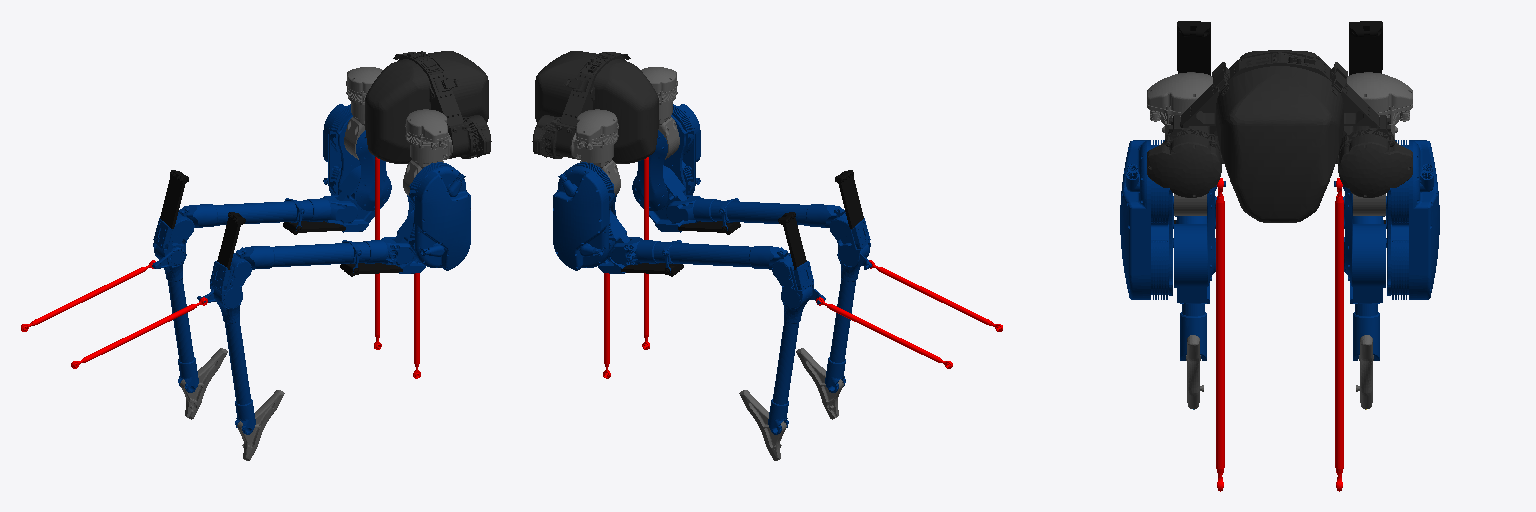
--- Render facts (derived) ---
Views: 3 orthographic renders of the robot side by side, from view 1: azimuth 30°, elevation 25°; view 2: azimuth 150°, elevation 25°; view 3: azimuth 270°, elevation 25°.
Robot: cassie — 37 links, 36 joints (34 revolute, 2 fixed); root link pelvis; default pose: all joints at 0 but 6 set to mid-range because 0 is outside their limits (knee_left = -1.75, knee_right = -1.75, toe_crank_left = -1.48, toe_crank_right = -1.48, ankle_joint_left = 1.9, ankle_joint_right = 1.9).
Links seen in each view (by area): view 1: pelvis, thigh_right, shin_right, shin_left, tarsus_right, thigh_left, tarsus_left, yaw_right, yaw_left, toe_left, toe_right, knee_left (+10 smaller); view 2: pelvis, thigh_left, shin_left, shin_right, tarsus_left, thigh_right, tarsus_right, yaw_left, yaw_right, toe_right, toe_left, knee_right (+10 smaller); view 3: pelvis, thigh_left, thigh_right, achilles_rod_left, achilles_rod_right, knee_right, knee_left, yaw_left, yaw_right, heel_spring_right, heel_spring_left, tarsus_left (+5 smaller).
Boxes of the visible links, x1,y1,x2,y2 form: pelvis: (365, 51, 491, 163); thigh_right: (407, 162, 470, 270); shin_right: (231, 237, 413, 272); shin_left: (177, 195, 357, 230); tarsus_right: (210, 253, 255, 434); thigh_left: (323, 104, 390, 210); tarsus_left: (153, 212, 198, 392); yaw_right: (405, 109, 452, 162); yaw_left: (346, 67, 382, 119); toe_left: (180, 348, 227, 419); toe_right: (237, 390, 284, 460); knee_left: (337, 165, 391, 232); pelvis: (532, 51, 658, 163); thigh_left: (553, 162, 616, 270); shin_left: (610, 237, 792, 272); shin_right: (666, 195, 846, 230); tarsus_left: (768, 253, 813, 434); thigh_right: (633, 104, 700, 210); tarsus_right: (825, 212, 870, 392); yaw_left: (571, 109, 618, 162); yaw_right: (641, 67, 677, 119); toe_right: (796, 348, 843, 419); toe_left: (739, 390, 786, 460); knee_right: (632, 165, 686, 232); pelvis: (1147, 50, 1412, 222); thigh_left: (1334, 140, 1439, 299); thigh_right: (1120, 140, 1225, 299); achilles_rod_left: (1335, 178, 1343, 491); achilles_rod_right: (1216, 178, 1224, 491); knee_right: (1174, 224, 1209, 303); knee_left: (1350, 224, 1385, 303); yaw_left: (1347, 72, 1412, 143); yaw_right: (1147, 72, 1212, 143); heel_spring_right: (1177, 21, 1210, 75); heel_spring_left: (1349, 21, 1382, 75); tarsus_left: (1353, 303, 1379, 360).
Size in the robot's own frame: 1.14 by 0.4825 by 0.8448 metres.
25 mesh visuals loaded from 20 distinct referenced files (20 OBJ).

The robot description file, URDF, robot "cassie":
<robot name="cassie">

    <link name="pelvis">
        <inertial>
            <origin
                    xyz=".05066 0.000346 .02841"
                    rpy="0 0 0" />
            <mass value="10.33" />
            <inertia
                    ixx=".094158"
                    ixy=".0001685"
                    ixz=".015026"
                    iyy=".084066"
                    iyz=".0005156"
                    izz=".112770" />
        </inertial>
        <visual>
            <origin
                    xyz="0 0 0"
                    rpy="0 0 0" />
            <geometry>
                <mesh filename="meshes/pelvis.obj" />
            </geometry>
            <material name="">
                <color
                        rgba="0.2 0.2 0.2 1.0" />
            </material>
        </visual>
    </link>

    <link name="yaw_left">
        <inertial>
            <origin
                    xyz=".0257 0.0001 .0179"
                    rpy="0 -1.570796 0" />
            <mass value="1.82" />
            <inertia
                    ixx=".002722"
                    ixy=".000000703"
                    ixz=".00000153"
                    iyy=".005586"
                    iyz=".00000261"
                    izz=".004638" />
        </inertial>
        <visual>
            <origin
                    xyz="0 0 -0.07"
                    rpy="0 -1.570796 0" />
            <geometry>
                <mesh filename="meshes/agility/left_yaw.obj" />
            </geometry>
            <material name="">
                <color rgba="0.4 0.4 0.4 1" />
            </material>
        </visual>
    </link>

    <link name="yaw_right">
        <inertial>
            <origin
                    xyz=".0257 -0.0001 .0179"
                    rpy="0 -1.570796 0" />
            <mass value="1.82" />
            <inertia
                    ixx=".002722"
                    ixy="-.000000703"
                    ixz=".00000153"
                    iyy=".005586"
                    iyz="-.00000261"
                    izz=".004638" />
        </inertial>
        <visual>
            <origin
                    xyz="0 0 -0.07"
                    rpy="0 -1.570796 0" />
            <geometry>
                <mesh filename="meshes/agility/right_yaw.obj" />
            </geometry>
            <material name="">
                <color rgba="0.4 0.4 0.4 1" />
            </material>
        </visual>
    </link>

    <link name="hip_left">
        <inertial>
            <origin
                    xyz="-.05572 0 0.00001"
                    rpy="-1.570796 1.570796 0" />
            <mass value="1.171" />
            <inertia
                    ixx=".000842"
                    ixy=".0000002462"
                    ixz="-.0000006251"
                    iyy=".006076"
                    iyz="-.00000004"
                    izz=".006436" />
        </inertial>
        <visual>
            <origin
                    xyz="0 0 -0.09"
                    rpy="-1.570796 1.570796 0" />
            <geometry>
                <mesh filename="meshes/agility/left_hip.obj" />
            </geometry>
            <material name="">
                <color rgba="0.4 0.4 0.4 1" />
            </material>
        </visual>
    </link>

    <link name="hip_right">
        <inertial>
            <origin
                    xyz="-.05572 0 -0.00001"
                    rpy="-1.570796 1.570796 0" />
            <mass value="1.171" />
            <inertia
                    ixx=".000842"
                    ixy=".0000002462"
                    ixz=".0000006251"
                    iyy=".006076"
                    iyz=".00000004"
                    izz=".006436" />
        </inertial>
        <visual>
            <origin
                    xyz="0 0 -0.09"
                    rpy="-1.570796 1.570796 0" />
            <geometry>
                <mesh filename="meshes/agility/right_hip.obj" />
            </geometry>
            <material name="">
                <color rgba="0.4 0.4 0.4 1" />
            </material>
        </visual>
    </link>

    <link name="thigh_left">
        <inertial>
            <origin
                    xyz="0.05946 0.00005 -.03581"
                    rpy="0 0 0" />
            <mass value="5.52" />
            <inertia
                    ixx=".017969"
                    ixy=".0002836"
                    ixz="-.011685"
                    iyy=".056284"
                    iyz="-.00001926"
                    izz=".049756" />
        </inertial>
        <visual>
            <origin
                    xyz="0 0 0"
                    rpy="0 0 0" />
            <geometry>
                <mesh filename="meshes/agility/left_thigh.obj" />
            </geometry>
            <material name="">
                <color rgba="0.024 0.24 0.5 1.0" />
            </material>
        </visual>
    </link>

    <link name="thigh_right">
        <inertial>
            <origin
                    xyz="0.05946 0.00005 .03581"
                    rpy="0 0 0" />
            <mass value="5.52" />
            <inertia
                    ixx=".017969"
                    ixy=".0002836"
                    ixz=".011685"
                    iyy=".056284"
                    iyz=".00001926"
                    izz=".049756" />
        </inertial>
        <visual>
            <origin
                    xyz="0 0 0"
                    rpy="0 0 0" />
            <geometry>
                <mesh filename="meshes/agility/right_thigh.obj" />
            </geometry>
            <material name="">
                <color rgba="0.024 0.24 0.5 1.0" />
            </material>
        </visual>
    </link>

    <link name="achilles_rod_left">
        <inertial>
            <origin
                    xyz="0.24719 0 0"
                    rpy="0 0 0" />
            <mass value="0.1567" />
            <inertia
                    ixx=".000004"
                    ixy="0"
                    ixz=""
                    iyy=".014061"
                    iyz="0"
                    izz=".014061" />
        </inertial>
        <visual>
            <origin
                    xyz="0 0 0"
                    rpy="0 0 0" />
            <geometry>
                <mesh filename="meshes/achilles-rod.obj" />
            </geometry>
            <material name="">
                <color rgba="1 0 0 1.0" />
            </material>
        </visual>
    </link>

    <link name="achilles_hip_pitch_left">
        <inertial>
            <origin rpy="0 0 0" xyz="0 0 0"/>
            <mass value="0"/>
            <inertia ixx="0" ixy="0" ixz="0" iyy="0" iyz="0" izz="0"/>
        </inertial>
    </link>

    <link name="achilles_heel_roll_left">
        <inertial>
            <origin rpy="0 0 0" xyz="0 0 0"/>
            <mass value="0"/>
            <inertia ixx="0" ixy="0" ixz="0" iyy="0" iyz="0" izz="0"/>
        </inertial>
    </link>

    <link name="achilles_heel_pitch_left">
        <inertial>
            <origin rpy="0 0 0" xyz="0 0 0"/>
            <mass value="0"/>
            <inertia ixx="0" ixy="0" ixz="0" iyy="0" iyz="0" izz="0"/>
        </inertial>
    </link>

    <link name="achilles_rod_right">
        <inertial>
            <origin
                    xyz="0.24719 0 0"
                    rpy="0 0 0" />
            <mass value="0.1567" />
            <inertia
                    ixx=".000004"
                    ixy="0"
                    ixz=""
                    iyy=".014061"
                    iyz="0"
                    izz=".014061" />
        </inertial>
        <visual>
            <origin
                    xyz="0 0 0"
                    rpy="0 0 0" />
            <geometry>
                <mesh filename="meshes/achilles-rod.obj" />
            </geometry>
            <material name="">
                <color rgba="1 0 0 1.0" />
            </material>
        </visual>
    </link>

    <link name="achilles_hip_pitch_right">
        <inertial>
            <origin rpy="0 0 0" xyz="0 0 0"/>
            <mass value="0"/>
            <inertia ixx="0" ixy="0" ixz="0" iyy="0" iyz="0" izz="0"/>
        </inertial>
    </link>

    <link name="achilles_heel_roll_right">
        <inertial>
            <origin rpy="0 0 0" xyz="0 0 0"/>
            <mass value="0"/>
            <inertia ixx="0" ixy="0" ixz="0" iyy="0" iyz="0" izz="0"/>
        </inertial>
    </link>

    <link name="achilles_heel_pitch_right">
        <inertial>
            <origin rpy="0 0 0" xyz="0 0 0"/>
            <mass value="0"/>
            <inertia ixx="0" ixy="0" ixz="0" iyy="0" iyz="0" izz="0"/>
        </inertial>
    </link>

    <link name="knee_left">
        <inertial>
            <origin
                    xyz="0.023 0.03207 -0.002181"
                    rpy="0 0 0" />
            <mass value="0.7578" />
            <inertia
                    ixx=".002159"
                    ixy=".0009564"
                    ixz=".000002837"
                    iyy=".001438"
                    iyz=".000000739"
                    izz=".003344" />
        </inertial>
        <visual>
            <origin
                    xyz="0 0 0"
                    rpy="0 0 0" />
            <geometry>
                <mesh filename="meshes/knee-output.obj" />
            </geometry>
            <material name="">
                <color rgba="0.024 0.24 0.5 1.0" />
            </material>
        </visual>
    </link>

    <link name="knee_right">
        <inertial>
            <origin
                    xyz="0.023 0.03207 0.002181"
                    rpy="0 0 0" />
            <mass value="0.7578" />
            <inertia
                    ixx=".002159"
                    ixy=".0009564"
                    ixz=".000002837"
                    iyy=".001438"
                    iyz="-.000000739"
                    izz=".003344" />
        </inertial>
        <visual>
            <origin
                    xyz="0 0 0"
                    rpy="0 0 0" />
            <geometry>
                <mesh filename="meshes/knee-output-r.obj" />
            </geometry>
            <material name="">
                <color rgba="0.024 0.24 0.5 1.0" />
            </material>
        </visual>
    </link>

    <link name="shin_left">
        <inertial>
            <origin
                    xyz=".18338 0.001169 0.0002123"
                    rpy="0 0 0" />
            <mass value="0.5771" />
            <inertia
                    ixx=".0003602"
                    ixy=".0003335"
                    ixz="-.0000001941"
                    iyy=".034132"
                    iyz=".0000002652"
                    izz=".034111" />
        </inertial>
        <visual>
            <origin
                    xyz="0 0 0"
                    rpy="0 0 0" />
            <geometry>
                <mesh filename="meshes/agility/left_shin.obj" />
            </geometry>
            <material name="">
                <color rgba="0.024 0.24 0.5 1.0" />
            </material>
        </visual>
    </link>

    <link name="shin_right">
        <inertial>
            <origin
                    xyz=".18338 0.001169 -0.0002123"
                    rpy="0 0 0" />
            <mass value="0.5771" />
            <inertia
                    ixx=".0003602"
                    ixy=".000334"
                    ixz=".0000001941"
                    iyy=".034132"
                    iyz="-.0000002652"
                    izz=".034111" />
        </inertial>
        <visual>
            <origin
                    xyz="0 0 0"
                    rpy="0 0 0" />
            <geometry>
                <mesh filename="meshes/agility/right_shin.obj" />
            </geometry>
            <material name="">
                <color rgba="0.024 0.24 0.5 1.0" />
            </material>
        </visual>
    </link>

    <link name="knee_spring_left">
        <inertial>
            <origin
                    xyz=".08364 0.003427 0.0"
                    rpy="0 0 0" />
            <mass value="0.1864" />
            <inertia
                    ixx=".0000543"
                    ixy=".00004601"
                    ixz="0.0"
                    iyy=".001712"
                    iyz="0.0"
                    izz=".001669" />
        </inertial>
        <visual>
            <origin
                    xyz="0 0 0"
                    rpy="0 0 0" />
            <geometry>
                <mesh filename="meshes/knee-spring.obj" />
            </geometry>
            <material name="">
                <color rgba="0.1 0.1 0.1 1" />
            </material>
        </visual>
    </link>

    <link name="knee_spring_right">
        <inertial>
            <origin
                    xyz=".08364 0.003427 0.0"
                    rpy="0 0 0" />
            <mass value="0.1864" />
            <inertia
                    ixx=".0000543"
                    ixy=".00004601"
                    ixz="0.0"
                    iyy=".001712"
                    iyz="0.0"
                    izz=".001669" />
        </inertial>
        <visual>
            <origin
                    xyz="0 0 0"
                    rpy="0 0 0" />
            <geometry>
                <mesh filename="meshes/knee-spring.obj" />
            </geometry>
            <material name="">
                <color rgba="0.1 0.1 0.1 1" />
            </material>
        </visual>
    </link>

    <link name="tarsus_left">
        <inertial>
            <origin
                    xyz=".11046 -.03058 -.00131"
                    rpy="0 0 0" />
            <mass value="0.782" />
            <inertia
                    ixx=".001125"
                    ixy="-.002878"
                    ixz="-.00006329"
                    iyy=".023138"
                    iyz=".00003615"
                    izz=".023947" />
        </inertial>
        <visual>
            <origin
                    xyz="0 0 0"
                    rpy="0 0 0" />
            <geometry>
                <mesh filename="meshes/tarsus.obj" />
            </geometry>
            <material name="">
                <color rgba="0.024 0.24 0.5 1.0" />
            </material>
        </visual>
    </link>

    <link name="tarsus_right">
        <inertial>
            <origin
                    xyz=".11046 -.03058 -.00131"
                    rpy="0 0 0" />
            <mass value="0.782" />
            <inertia
                    ixx=".001125"
                    ixy="-.002878"
                    ixz=".00006329"
                    iyy=".023138"
                    iyz="-.00003615"
                    izz=".023947" />
        </inertial>
        <visual>
            <origin
                    xyz="0 0 0"
                    rpy="0 0 0" />
            <geometry>
                <mesh filename="meshes/tarsus-r.obj" />
            </geometry>
            <material name="">
                <color rgba="0.024 0.24 0.5 1.0" />
            </material>
        </visual>
    </link>

    <link name="heel_spring_left">
        <inertial>
            <origin
                    xyz="0.08097 0.00223 -0.0000385"
                    rpy="0 0 0" />
            <mass value="0.1259" />
            <inertia
                    ixx=".00003016"
                    ixy=".00001528"
                    ixz=".000000575"
                    iyy=".001049"
                    iyz="-.0000000557"
                    izz=".001028" />
        </inertial>
        <visual>
            <origin
                    xyz="0 0 0"
                    rpy="0 0 0" />
            <geometry>
                <mesh filename="meshes/heel-spring.obj" />
            </geometry>
            <material name="">
                <color rgba="0.1 0.1 0.1 1" />
            </material>
        </visual>
    </link>

    <link name="heel_spring_right">
        <inertial>
            <origin
                    xyz="0.08097 0.00223 -0.0000385"
                    rpy="0 0 0" />
            <mass value="0.1259" />
            <inertia
                    ixx=".00003016"
                    ixy=".00001528"
                    ixz=".000000575"
                    iyy=".001049"
                    iyz="-.0000000557"
                    izz=".001028" />
        </inertial>
        <visual>
            <origin
                    xyz="0 0 0"
                    rpy="0 0 0" />
            <geometry>
                <mesh filename="meshes/heel-spring.obj" />
            </geometry>
            <material name="">
                <color rgba="0.1 0.1 0.1 1" />
            </material>
        </visual>
    </link>

    <link name="foot_crank_link_left">
        <inertial>
            <origin
                    xyz="0.00481 0.00002 -0.00293"
                    rpy="0 0 0" />
            <mass value="0.129" />
            <inertia
                    ixx=".0000307"
                    ixy=".0000000019"
                    ixz=".00000262"
                    iyy=".00005705"
                    iyz=".0000000066"
                    izz=".00006643" />
        </inertial>
        <visual>
            <origin
                    xyz="0 0 0"
                    rpy="0 0 0" />
            <geometry>
                <mesh filename="meshes/agility/foot_crank.obj" />
            </geometry>
            <material name="">
                <color rgba="0.024 0.24 0.5 1.0" />
                <!-- <color rgba="1.0 0.423529411765 0.0392156862745 1.0" /> -->
            </material>
        </visual>
    </link>

    <link name="plantar_rod_left">
        <inertial>
            <origin
                    xyz="0.17792 0 0"
                    rpy="0 0 0" />
            <mass value="0.1186" />
            <inertia
                    ixx=".0000028"
                    ixy="0"
                    ixz=""
                    iyy=".005530"
                    iyz="0"
                    izz=".005530" />
        </inertial>
        <visual>
            <origin
                    xyz="0 0 0"
                    rpy="0 0 0" />
            <geometry>
                <mesh filename="meshes/plantar-rod.obj" />
            </geometry>
            <material name="">
                <color rgba="1 0 0 1.0" />
            </material>
        </visual>
    </link>

    <link name="plantar_crank_pitch_left">
        <inertial>
            <origin rpy="0 0 0" xyz="0 0 0"/>
            <mass value="0"/>
            <inertia ixx="0" ixy="0" ixz="0" iyy="0" iyz="0" izz="0"/>
        </inertial>
    </link>

    <link name="plantar_foot_roll_left">
        <inertial>
            <origin rpy="0 0 0" xyz="0 0 0"/>
            <mass value="0"/>
            <inertia ixx="0" ixy="0" ixz="0" iyy="0" iyz="0" izz="0"/>
        </inertial>
    </link>

    <link name="plantar_foot_pitch_left">
        <inertial>
            <origin rpy="0 0 0" xyz="0 0 0"/>
            <mass value="0"/>
            <inertia ixx="0" ixy="0" ixz="0" iyy="0" iyz="0" izz="0"/>
        </inertial>
    </link>

    <link name="plantar_rod_right">
        <inertial>
            <origin
                    xyz="0.17792 0 0"
                    rpy="0 0 0" />
            <mass value="0.1186" />
            <inertia
                    ixx=".0000028"
                    ixy="0"
                    ixz=""
                    iyy=".005530"
                    iyz="0"
                    izz=".005530" />
        </inertial>
        <visual>
            <origin
                    xyz="0 0 0"
                    rpy="0 0 0" />
            <geometry>
                <mesh filename="meshes/plantar-rod.obj" />
            </geometry>
            <material name="">
                <color rgba="1 0 0 1.0" />
            </material>
        </visual>
    </link>

    <link name="plantar_crank_pitch_right">
        <inertial>
            <origin rpy="0 0 0" xyz="0 0 0"/>
            <mass value="0"/>
            <inertia ixx="0" ixy="0" ixz="0" iyy="0" iyz="0" izz="0"/>
        </inertial>
    </link>

    <link name="plantar_foot_roll_right">
        <inertial>
            <origin rpy="0 0 0" xyz="0 0 0"/>
            <mass value="0"/>
            <inertia ixx="0" ixy="0" ixz="0" iyy="0" iyz="0" izz="0"/>
        </inertial>
    </link>

    <link name="plantar_foot_pitch_right">
        <inertial>
            <origin rpy="0 0 0" xyz="0 0 0"/>
            <mass value="0"/>
            <inertia ixx="0" ixy="0" ixz="0" iyy="0" iyz="0" izz="0"/>
        </inertial>
    </link>

    <link name="foot_crank_link_right">
        <inertial>
            <origin
                    xyz="0.00481 0.00002 -0.00293"
                    rpy="0 0 0" />
            <mass value="0.129" />
            <inertia
                    ixx=".0000307"
                    ixy=".0000000019"
                    ixz=".00000262"
                    iyy=".00005705"
                    iyz=".0000000066"
                    izz=".00006643" />
        </inertial>
        <visual>
            <origin
                    xyz="0 0 0"
                    rpy="0 0 0" />
            <geometry>
                <mesh filename="meshes/agility/foot_crank.obj" />
            </geometry>
            <material name="">
                <color rgba="0.024 0.24 0.5 1.0" />
                <!-- <color rgba="1.0 0.423529411765 0.0392156862745 1.0" /> -->
            </material>
        </visual>
    </link>

    <link name="toe_left">
        <inertial>
            <origin
                    xyz="0.00474 0.02748 -0.00014"
                    rpy="0 0 0" />
            <mass value="0.1498" />
            <inertia
                    ixx=".000287"
                    ixy="-.00009863"
                    ixz="-.000001456"
                    iyy=".0001713"
                    iyz=".0000001716"
                    izz=".0004491" />
        </inertial>
        <visual>
            <origin
                    xyz="0 0 0"
                    rpy="0 0 0" />
            <geometry>
                <mesh filename="meshes/agility/left_foot.obj" />
                <!-- <mesh filename="meshes/toe.obj" /> -->
            </geometry>
            <material name="">
                <color rgba="0.4 0.4 0.4 1" />
            </material>
        </visual>

        <visual>
            <geometry>
                <sphere radius="0.001"/>
            </geometry>
            <origin xyz="-0.0457 .112 0" rpy="0 0 0"/>
        </visual>
        <collision>
            <geometry>
                <sphere radius="0.0"/>
            </geometry>
            <origin xyz="-0.0457 .112 0" rpy="0 0 0"/>
        </collision>
        <visual>
            <geometry>
                <sphere radius="0.001"/>
            </geometry>
            <origin xyz="0.088 0 0" rpy="0 0 0"/>
        </visual>
        <collision>
            <geometry>
                <sphere radius="0.0"/>
            </geometry>
            <origin xyz="0.088 0 0" rpy="0 0 0"/>
        </collision>
    </link>

    <link name="toe_right">
        <inertial>
            <origin
                    xyz="0.00474 0.02748 0.00014"
                    rpy="0 0 0" />
            <mass value="0.1498" />
            <inertia
                    ixx=".000287"
                    ixy="-.00009863"
                    ixz=".000001456"
                    iyy=".0001713"
                    iyz="-.0000001716"
                    izz=".0004491" />
        </inertial>
        <visual>
            <origin
                    xyz="0 0 0"
                    rpy="0 0 0" />
            <geometry>
                <mesh filename="meshes/agility/right_foot.obj" />
                <!-- <mesh filename="meshes/toe-r.obj" /> -->
            </geometry>
            <material name="">
                <color rgba="0.4 0.4 0.4 1" />
            </material>
        </visual>
        <visual>
            <geometry>
                <sphere radius="0.001"/>
            </geometry>
            <origin xyz="-0.0457 .112 0" rpy="0 0 0"/>
        </visual>
        <collision>
            <geometry>
                <sphere radius="0.0"/>
            </geometry>
            <origin xyz="-0.0457 .112 0" rpy="0 0 0"/>
        </collision>
        <visual>
            <geometry>
                <sphere radius="0.001"/>
            </geometry>
            <origin xyz="0.088 0 0" rpy="0 0 0"/>
        </visual>
        <collision>
            <geometry>
                <sphere radius="0.0"/>
            </geometry>
            <origin xyz="0.088 0 0" rpy="0 0 0"/>
        </collision>
    </link>



    <!-- JOINTS ||| JOINTS ||| JOINTS ||| JOINTS ||| JOINTS |||-->
    <!-- JOINTS ||| JOINTS ||| JOINTS ||| JOINTS ||| JOINTS |||-->
    <!-- JOINTS ||| JOINTS ||| JOINTS ||| JOINTS ||| JOINTS |||-->
    <!-- JOINTS ||| JOINTS ||| JOINTS ||| JOINTS ||| JOINTS |||-->
    <!-- JOINTS ||| JOINTS ||| JOINTS ||| JOINTS ||| JOINTS |||-->
    <!-- JOINTS ||| JOINTS ||| JOINTS ||| JOINTS ||| JOINTS |||-->
    <!-- JOINTS ||| JOINTS ||| JOINTS ||| JOINTS ||| JOINTS |||-->
    <!-- JOINTS ||| JOINTS ||| JOINTS ||| JOINTS ||| JOINTS |||-->
    <!-- JOINTS ||| JOINTS ||| JOINTS ||| JOINTS ||| JOINTS |||-->
    <!-- JOINTS ||| JOINTS ||| JOINTS ||| JOINTS ||| JOINTS |||-->


    <joint name="hip_roll_left" type="revolute">
        <origin xyz=".021 .135 0" rpy="0 1.570796 0" />
        <parent link="pelvis" />
        <child link="yaw_left" />
        <axis xyz="0 0 1" />
        <limit lower="-0.262" upper="0.393" effort="300"/>
        <dynamics damping="1" />
    </joint>

    <joint name="hip_roll_right" type="revolute">
        <origin xyz=".021 -.135 0" rpy="0 1.570796 0" />
        <parent link="pelvis" />
        <child link="yaw_right" />
        <axis xyz="0 0 1" />
        <limit lower="-0.393" upper="0.262" effort="300"/>
        <dynamics damping="1" />
    </joint>


    <joint name="hip_yaw_left" type="revolute">
        <origin xyz="0 0 -0.07" rpy="0 -1.570796 0" />
        <parent link="yaw_left" />
        <child link="hip_left" />
        <axis xyz="0 0 1" />
        <limit lower="-0.393" upper="0.393" effort="300"/>
        <dynamics damping="1" />
    </joint>

    <joint name="hip_yaw_right" type="revolute">
        <origin xyz="0 0 -0.07" rpy="0 -1.570796 0" />
        <parent link="yaw_right" />
        <child link="hip_right" />
        <axis xyz="0 0 1" />
        <limit lower="-0.393" upper="0.393" effort="300"/>
        <dynamics damping="1" />
    </joint>


    <joint name="hip_pitch_left" type="revolute">
        <origin xyz="0 0 -0.09" rpy="1.570796 1.570796 0" />
        <parent link="hip_left" />
        <child link="thigh_left" />
        <axis xyz="0 0 1" />
        <limit lower="-0.873" upper="1.396" effort="300"/>
        <dynamics damping="1" />
    </joint>

    <joint name="hip_pitch_right" type="revolute">
        <origin xyz="0 0 -0.09" rpy="1.570796 1.570796 0" />
        <parent link="hip_right" />
        <child link="thigh_right" />
        <axis xyz="0 0 1" />
        <limit lower="-0.873" upper="1.396" effort="300"/>
        <dynamics damping="1" />
    </joint>

    <joint name="achilles_hip_left" type="revolute">
        <origin xyz ="0  0  .045" rpy="0 0 0" />
        <parent link="thigh_left" />
        <child link="achilles_hip_pitch_left" />
        <axis xyz ="0 1 0" />
        <dynamics damping="0.01" />
        <limit lower="-3.14" upper="3.14"/>
    </joint>

    <joint name="achilles_hip_pitch_left" type="revolute">
        <parent link="achilles_hip_pitch_left" />
        <child link="achilles_rod_left" />
        <axis xyz ="0 0 1" />
        <dynamics damping="0.01" />
        <limit lower="-3.14" upper="3.14"/>
    </joint>

    <joint name="achilles_heel_roll_left" type="revolute">
        <origin xyz=".5012 0 0" />
        <parent link="achilles_rod_left" />
        <child link="achilles_heel_roll_left" />
        <axis xyz ="1 0 0" />
        <dynamics damping="0.01" />
        <limit lower="-20" upper="20"/>
    </joint>

    <joint name="achilles_heel_pitch_left" type="revolute">
        <origin xyz="0 0 0" />
        <parent link="achilles_heel_roll_left" />
        <child link="achilles_heel_pitch_left" />
        <axis xyz ="0 1 0" />
        <dynamics damping="0.01" />
        <limit lower="-3.14" upper="3.14"/>
    </joint>

    <joint name="achilles_hip_right" type="revolute">
        <origin xyz ="0  0  -.045" rpy="0 0 0" />
        <parent link="thigh_right" />
        <child link="achilles_hip_pitch_right" />
        <axis xyz ="0 1 0" />
        <dynamics damping="0.01" />
        <limit lower="-3.14" upper="3.14"/>
    </joint>

    <joint name="achilles_hip_pitch_right" type="revolute">
        <parent link="achilles_hip_pitch_right" />
        <child link="achilles_rod_right" />
        <axis xyz ="0 0 1" />
        <dynamics damping="0.01" />
        <limit lower="-3.14" upper="3.14"/>
    </joint>

    <joint name="achilles_heel_roll_right" type="revolute">
        <origin xyz=".5012 0 0" />
        <parent link="achilles_rod_right" />
        <child link="achilles_heel_roll_right" />
        <axis xyz ="1 0 0" />
        <dynamics damping="0.01" />
        <limit lower="-3.14" upper="3.14"/>
    </joint>

    <joint name="achilles_heel_pitch_right" type="revolute">
        <origin xyz="0 0 0" />
        <parent link="achilles_heel_roll_right" />
        <child link="achilles_heel_pitch_right" />
        <axis xyz ="0 1 0" />
        <dynamics damping="0.01" />
        <limit lower="-3.14" upper="3.14"/>
    </joint>


    <joint name="knee_left" type="revolute">
        <origin xyz="0.12 0 0.0045" rpy="0 0 0" />
        <parent link="thigh_left" />
        <child link="knee_left" />
        <axis xyz="0 0 1" />
        <limit lower="-2.862" upper="-0.646" effort="300"/>
        <dynamics damping="1" />
    </joint>

    <joint name="knee_right" type="revolute">
        <origin xyz="0.12 0 -0.0045" rpy="0 0 0" />
        <parent link="thigh_right" />
        <child link="knee_right" />
        <axis xyz="0 0 1" />
        <limit lower="-2.862" upper="-0.646" effort="300"/>
        <dynamics damping="1" />
    </joint>


    <joint name="toe_crank_left" type="revolute">
        <origin xyz="0.058 -0.034 0.02275" rpy="0 0 0" />
        <parent link="tarsus_left" />
        <child link="foot_crank_link_left" />
        <axis xyz="0 0 1" />
        <limit lower="-2.443" upper="-0.524" effort="300"/>
        <dynamics damping="1" />
    </joint>

    <joint name="plantar_crank_left" type="revolute">
        <origin xyz ="0.055  0  -.00791" rpy="0 0 0" />
        <parent link="foot_crank_link_left" />
        <child link="plantar_crank_pitch_left" />
        <axis xyz ="0 1 0" />
        <dynamics damping="0.01" />
        <limit lower="-3.14" upper="3.14"/>
    </joint>

    <joint name="plantar_crank_pitch_left" type="revolute">
        <parent link="plantar_crank_pitch_left" />
        <child link="plantar_rod_left" />
        <axis xyz ="0 0 1" />
        <dynamics damping="0.01" />
        <limit lower="-3.14" upper="3.14"/>
    </joint>

    <joint name="plantar_foot_roll_left" type="revolute">
        <origin xyz=".35012 0 0" />
        <parent link="plantar_rod_left" />
        <child link="plantar_foot_roll_left" />
        <axis xyz ="1 0 0" />
        <dynamics damping="0.01" />
        <limit lower="-3.14" upper="3.14"/>
    </joint>

    <joint name="plantar_foot_pitch_left" type="revolute">
        <origin xyz="0 0 0" />
        <parent link="plantar_foot_roll_left" />
        <child link="plantar_foot_pitch_left" />
        <axis xyz ="0 1 0" />
        <dynamics damping="0.01" />
        <limit lower="-3.14" upper="3.14"/>
    </joint>

    <joint name="plantar_crank_right" type="revolute">
        <origin xyz ="0.055  0  .00791" rpy="0 0 0" />
        <parent link="foot_crank_link_right" />
        <child link="plantar_crank_pitch_right" />
        <axis xyz ="0 1 0" />
        <dynamics damping="0.01" />
        <limit lower="-3.14" upper="3.14"/>
    </joint>

    <joint name="plantar_crank_pitch_right" type="revolute">
        <parent link="plantar_crank_pitch_right" />
        <child link="plantar_rod_right" />
        <axis xyz ="0 0 1" />
        <dynamics damping="0.01" />
        <limit lower="-3.14" upper="3.14"/>
    </joint>

    <joint name="plantar_foot_roll_right" type="revolute">
        <origin xyz=".35012 0 0" />
        <parent link="plantar_rod_right" />
        <child link="plantar_foot_roll_right" />
        <axis xyz ="1 0 0" />
        <dynamics damping="0.01" />
        <limit lower="-3.14" upper="3.14"/>
    </joint>

    <joint name="plantar_foot_pitch_right" type="revolute">
        <origin xyz="0 0 0" />
        <parent link="plantar_foot_roll_right" />
        <child link="plantar_foot_pitch_right" />
        <axis xyz ="0 1 0" />
        <dynamics damping="0.01" />
        <limit lower="-3.14" upper="3.14"/>
    </joint>


    <joint name="toe_crank_right" type="revolute">
        <origin xyz="0.058 -0.034 -0.02275" rpy="0 0 0" />
        <parent link="tarsus_right" />
        <child link="foot_crank_link_right" />
        <axis xyz="0 0 1" />
        <limit lower="-2.443" upper="-0.524" effort="300"/>
        <dynamics damping="1" />
    </joint>


    <joint name="knee_joint_left" type="revolute">
        <origin xyz="0.06068 0.04741 0" rpy="0 0 0" />
        <parent link="knee_left" />
        <child link="shin_left" />
        <axis xyz="0 0 1" />
        <limit lower="-.1" upper="0.075"/>
        <dynamics damping=".10" />
    </joint>

    <joint name="knee_joint_right" type="revolute">
        <origin xyz="0.06068 0.04741 0" rpy="0 0 0" />
        <parent link="knee_right" />
        <child link="shin_right" />
        <axis xyz="0 0 1" />
        <limit lower="-.1" upper="0.075"/>
        <dynamics damping=".10" />
    </joint>


    <joint name="knee_spring_left_fixed" type="fixed">
        <origin xyz="0.06068 0.08241 0" rpy="0 0 0" />
        <parent link="knee_left" />
        <child link="knee_spring_left" />
    </joint>

    <joint name="knee_spring_right_fixed" type="fixed">
        <origin xyz="0.06068 0.08241 0" rpy="0 0 0" />
        <parent link="knee_right" />
        <child link="knee_spring_right" />
    </joint>


    <joint name="ankle_joint_left" type="revolute">
        <origin xyz="0.43476 0.02 0" rpy="0 0 0" />
        <parent link="shin_left" />
        <child link="tarsus_left" />
        <axis xyz="0 0 1" />
        <limit lower=".8" upper="3"/>
        <dynamics damping="0.1" />
    </joint>

    <joint name="ankle_joint_right" type="revolute">
        <origin xyz="0.43476 0.02 0" rpy="0 0 0" />
        <parent link="shin_right" />
        <child link="tarsus_right" />
        <axis xyz="0 0 1" />
        <limit lower=".8" upper="3"/>
        <dynamics damping="0.1" />
    </joint>

    <!-- rpy="-0.0689 -0.0370 2.7208"-->
    <joint name="ankle_spring_joint_left" type="revolute">
        <origin xyz="-.01269 -.03059 .00092" rpy="0.0780 0.00549 2.7192" />
        <parent link="tarsus_left" />
        <child link="heel_spring_left" />
        <limit lower="-.1" upper="0.1"/>
        <axis xyz="0 0 1" />
        <dynamics damping="10" /> <!-- made up value -->
    </joint>

    <!-- rpy="0.0734 0.0269 2.7201"-->
    <joint name="ankle_spring_joint_right" type="revolute">
        <origin xyz="-.01269 -.03059 -.00092" rpy="-0.0780 -0.00549 2.7192" />
        <parent link="tarsus_right" />
        <child link="heel_spring_right" />
        <limit lower="-.1" upper="0.1"/>
        <axis xyz="0 0 1" />
        <dynamics damping="10" /> <!-- made up value -->
    </joint>


    <joint name="toe_left" type="revolute">
        <origin xyz="0.408 -0.040 0" rpy="0 0 0" />
        <parent link="tarsus_left" />
        <child link="toe_left" />
        <axis xyz="0 0 1" />
        <limit lower="-3.14" upper="3.14"/>
        <dynamics damping="1" />
    </joint>

    <joint name="toe_right" type="revolute">
        <origin xyz="0.408 -0.040 0" rpy="0 0 0" />
        <parent link="tarsus_right" />
        <child link="toe_right" />
        <axis xyz="0 0 1" />
        <limit lower="-3.14" upper="3.14"/>
        <dynamics damping="1" />
    </joint>

    <!-- LOOP_JOINTS ||| LOOP_JOINTS ||| LOOP_JOINTS ||| LOOP_JOINTS |||-->
    <loop_joint name="achilles_loop_left">
        <link1 link="achilles_heel_pitch_left" xyz="0 0 0" />
        <link2 link="heel_spring_left" xyz=".11877 -.01 0" />
        <axis xyz="0 0 1"/>
    </loop_joint>

    <loop_joint name="achilles_loop_right">
        <link1 link="achilles_heel_pitch_right" xyz="0 0 0" />
        <link2 link="heel_spring_right" xyz=".11877 -.01 0" />
        <axis xyz="0 0 1"/>
    </loop_joint>

    <loop_joint name="plantar_loop_left">
        <link1 link="plantar_foot_pitch_left" xyz="0 0 0" />
        <link2 link="toe_left" xyz=".055 0 .00776" />
        <axis xyz="0 0 1"/>
    </loop_joint>

    <loop_joint name="plantar_loop_right">
        <link1 link="plantar_foot_pitch_right" xyz="0 0 0" />
        <link2 link="toe_right" xyz=".055 0 -.00776" />
        <axis xyz="0 0 1"/>
    </loop_joint>

    <!-- MOTORS ||| MOTORS ||| MOTORS ||| MOTORS ||| MOTORS |||-->
    <!-- MOTORS ||| MOTORS ||| MOTORS ||| MOTORS ||| MOTORS |||-->
    <!-- MOTORS ||| MOTORS ||| MOTORS ||| MOTORS ||| MOTORS |||-->
    <!-- MOTORS ||| MOTORS ||| MOTORS ||| MOTORS ||| MOTORS |||-->
    <!-- MOTORS ||| MOTORS ||| MOTORS ||| MOTORS ||| MOTORS |||-->
    <!-- MOTORS ||| MOTORS ||| MOTORS ||| MOTORS ||| MOTORS |||-->
    <!-- MOTORS ||| MOTORS ||| MOTORS ||| MOTORS ||| MOTORS |||-->
    <!-- MOTORS ||| MOTORS ||| MOTORS ||| MOTORS ||| MOTORS |||-->
    <!-- MOTORS ||| MOTORS ||| MOTORS ||| MOTORS ||| MOTORS |||-->
    <!-- MOTORS ||| MOTORS ||| MOTORS ||| MOTORS ||| MOTORS |||-->

    <transmission name="hip_roll_left_trans" type="transmission_interface/SimpleTransmission">
        <actuator name="hip_roll_left_motor"/>
        <joint name="hip_roll_left"/>
        <mechanicalReduction>1</mechanicalReduction>
    </transmission>

    <transmission name="hip_roll_right_trans" type="transmission_interface/SimpleTransmission">
        <actuator name="hip_roll_right_motor"/>
        <joint name="hip_roll_right"/>
        <mechanicalReduction>1</mechanicalReduction>
    </transmission>

    <transmission name="hip_yaw_left_trans" type="transmission_interface/SimpleTransmission">
        <actuator name="hip_yaw_left_motor"/>
        <joint name="hip_yaw_left"/>
        <mechanicalReduction>1</mechanicalReduction>
    </transmission>

    <transmission name="hip_yaw_right_trans" type="transmission_interface/SimpleTransmission">
        <actuator name="hip_yaw_right_motor"/>
        <joint name="hip_yaw_right"/>
        <mechanicalReduction>1</mechanicalReduction>
    </transmission>

    <transmission name="hip_pitch_left_trans" type="transmission_interface/SimpleTransmission">
        <actuator name="hip_pitch_left_motor"/>
        <joint name="hip_pitch_left"/>
        <mechanicalReduction>1</mechanicalReduction>
    </transmission>

    <transmission name="hip_pitch_right_trans" type="transmission_interface/SimpleTransmission">
        <actuator name="hip_pitch_right_motor"/>
        <joint name="hip_pitch_right"/>
        <mechanicalReduction>1</mechanicalReduction>
    </transmission>

    <transmission name="knee_left_trans" type="transmission_interface/SimpleTransmission">
        <actuator name="knee_left_motor"/>
        <joint name="knee_left"/>
        <mechanicalReduction>1</mechanicalReduction>
    </transmission>

    <transmission name="knee_right_trans" type="transmission_interface/SimpleTransmission">
        <actuator name="knee_right_motor"/>
        <joint name="knee_right"/>
        <mechanicalReduction>1</mechanicalReduction>
    </transmission>

    <transmission name="toe_crank_left_trans" type="transmission_interface/SimpleTransmission">
        <actuator name="toe_crank_left_motor"/>
        <joint name="toe_crank_left"/>
        <mechanicalReduction>1</mechanicalReduction>
    </transmission>

    <transmission name="toe_crank_right_trans" type="transmission_interface/SimpleTransmission">
        <actuator name="toe_crank_right_motor"/>
        <joint name="toe_crank_right"/>
        <mechanicalReduction>1</mechanicalReduction>
    </transmission>

    <!-- SPRINGS ||| SPRINGS ||| SPRINGS ||| SPRINGS ||| SPRINGS |||-->
    <!-- SPRINGS ||| SPRINGS ||| SPRINGS ||| SPRINGS ||| SPRINGS |||-->
    <!-- SPRINGS ||| SPRINGS ||| SPRINGS ||| SPRINGS ||| SPRINGS |||-->
    <!-- SPRINGS ||| SPRINGS ||| SPRINGS ||| SPRINGS ||| SPRINGS |||-->
    <!-- SPRINGS ||| SPRINGS ||| SPRINGS ||| SPRINGS ||| SPRINGS |||-->
    <!-- SPRINGS ||| SPRINGS ||| SPRINGS ||| SPRINGS ||| SPRINGS |||-->
    <!-- SPRINGS ||| SPRINGS ||| SPRINGS ||| SPRINGS ||| SPRINGS |||-->
    <!-- SPRINGS ||| SPRINGS ||| SPRINGS ||| SPRINGS ||| SPRINGS |||-->
    <!-- SPRINGS ||| SPRINGS ||| SPRINGS ||| SPRINGS ||| SPRINGS |||-->
    <!-- SPRINGS ||| SPRINGS ||| SPRINGS ||| SPRINGS ||| SPRINGS |||-->

    <!-- Real springs -->
    <force_element name="left_knee_spring">
        <torsional_spring stiffness="2300" rest_angle="0" >
            <joint name="knee_joint_left" />
        </torsional_spring>
    </force_element>

    <force_element name="left_ankle_spring">
        <torsional_spring stiffness="2000" rest_angle="0">
            <joint name="ankle_spring_joint_left" />
        </torsional_spring>
    </force_element>

    <force_element name="right_knee_spring">
        <torsional_spring stiffness="2300" rest_angle="0" >
            <joint name="knee_joint_right" />
        </torsional_spring>
    </force_element>

    <force_element name="right_ankle_spring">
        <torsional_spring stiffness="2000" rest_angle="0">
            <joint name="ankle_spring_joint_right" />
        </torsional_spring>
    </force_element>

</robot>
